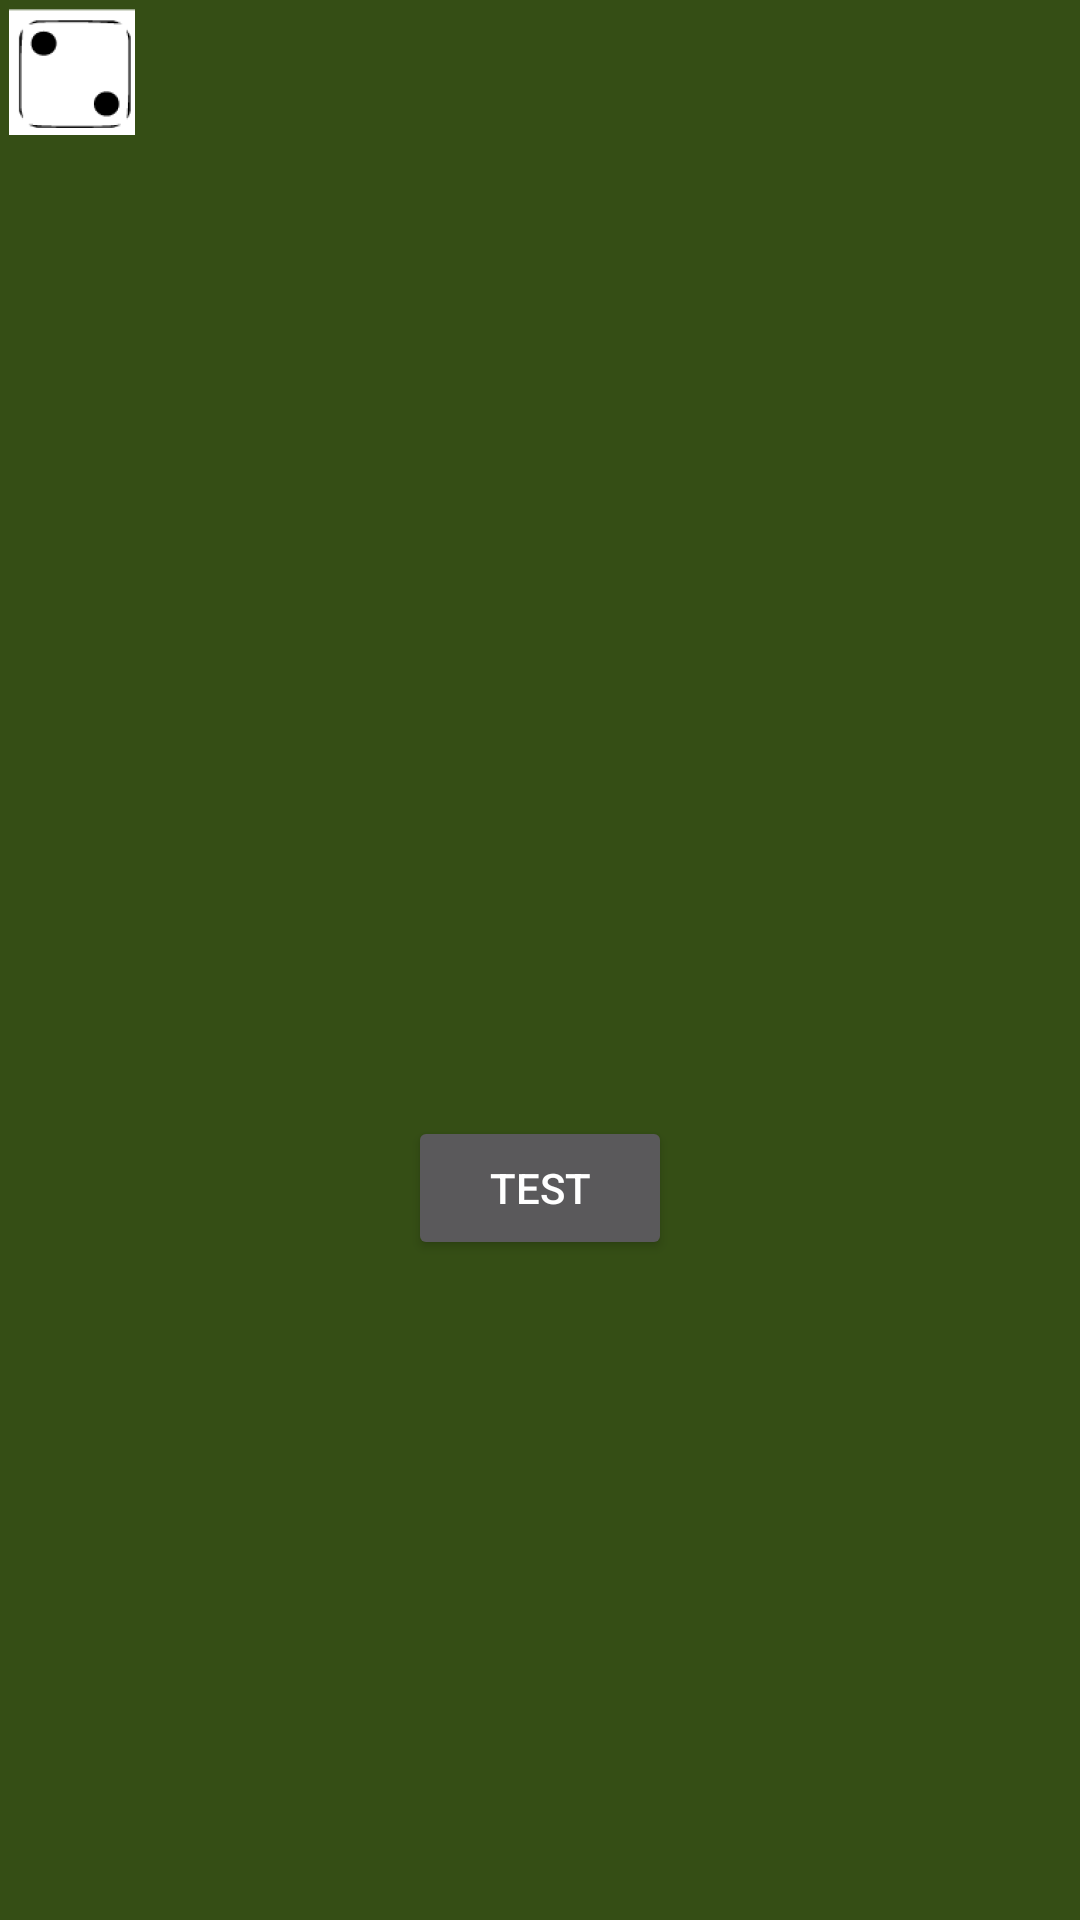

Where icons sit on this 1080w x 1920h app screen, as detection(x1, y1, x2, y2):
whitetwo: detection(9, 9, 135, 135)
